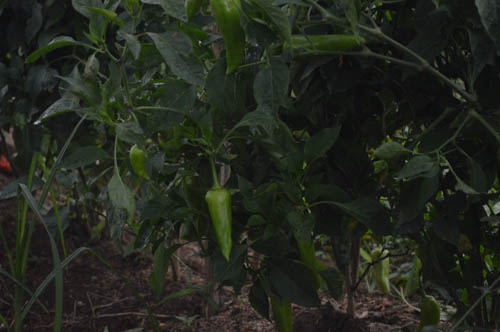ChiliPepper: (211, 4, 242, 71), (286, 33, 367, 57), (206, 189, 233, 257), (126, 146, 149, 176)
